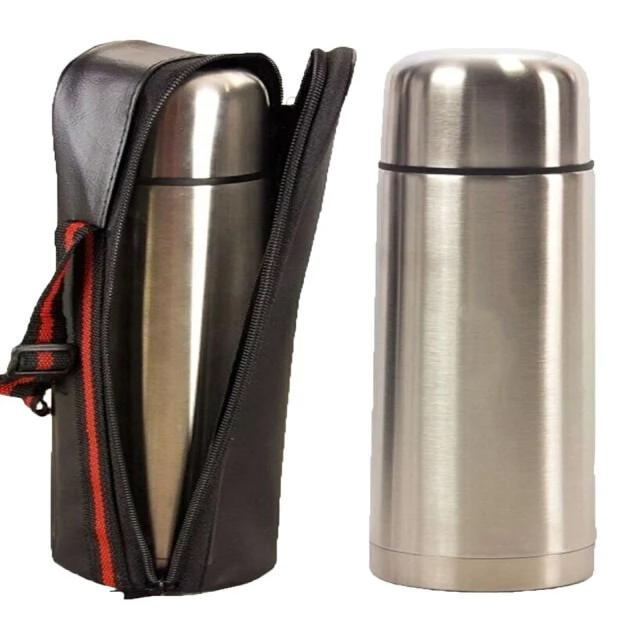Termos: (370, 46, 600, 594)
